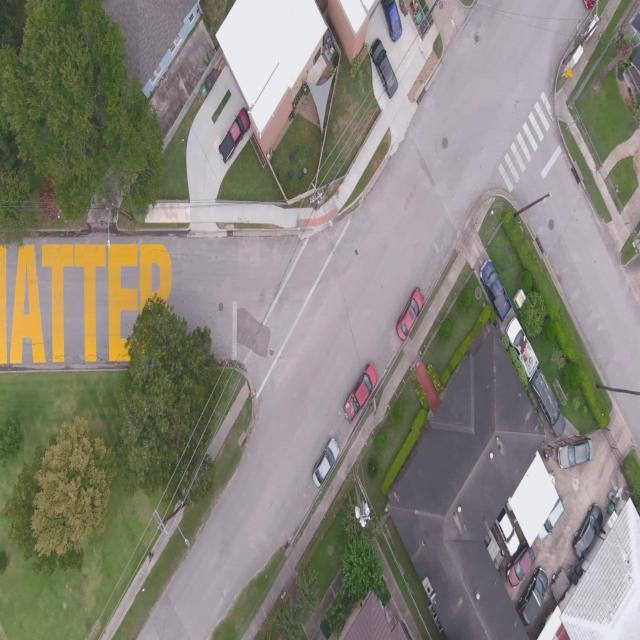Car: (391, 278, 432, 350), (529, 368, 565, 439), (342, 362, 376, 425), (504, 318, 538, 380), (480, 258, 512, 321), (516, 566, 549, 626), (217, 108, 250, 165), (572, 504, 604, 560), (370, 38, 398, 99), (494, 505, 522, 557), (311, 438, 339, 489), (507, 542, 538, 588), (537, 497, 565, 541), (558, 438, 593, 469), (550, 565, 572, 606), (380, 0, 401, 42), (485, 532, 504, 570), (234, 107, 250, 136), (582, 0, 596, 10)
